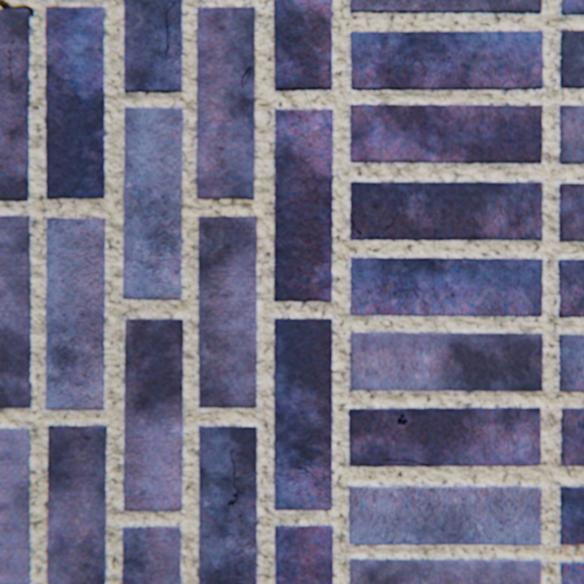brick: (349, 485, 540, 544), (124, 108, 183, 299), (350, 257, 541, 316), (350, 32, 542, 90), (125, 318, 183, 510), (47, 8, 105, 199), (47, 218, 105, 409), (350, 105, 541, 163), (350, 332, 541, 390), (274, 110, 332, 301), (197, 8, 255, 199), (349, 407, 540, 465), (350, 182, 541, 240), (274, 318, 332, 509), (199, 216, 257, 406), (48, 424, 107, 583), (199, 425, 257, 583), (0, 10, 33, 201), (0, 216, 32, 407), (125, 0, 183, 93), (274, 0, 331, 91), (350, 557, 540, 583), (0, 428, 31, 583), (123, 525, 181, 583), (275, 524, 332, 583), (350, 0, 541, 14), (557, 259, 583, 317), (558, 183, 583, 241), (558, 106, 583, 164), (558, 334, 583, 391), (559, 485, 583, 543), (559, 31, 583, 89), (560, 407, 583, 465), (560, 561, 583, 583), (560, 0, 583, 15)
crack: (228, 448, 244, 504), (0, 0, 35, 16), (166, 1, 176, 56), (376, 221, 392, 239), (241, 67, 251, 89), (352, 221, 360, 239), (393, 208, 404, 219), (10, 42, 15, 65), (305, 467, 318, 475), (397, 413, 407, 423), (383, 458, 416, 461), (10, 67, 14, 86)
